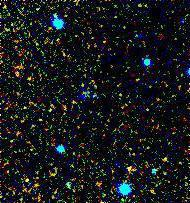star: (117, 154, 147, 184)
